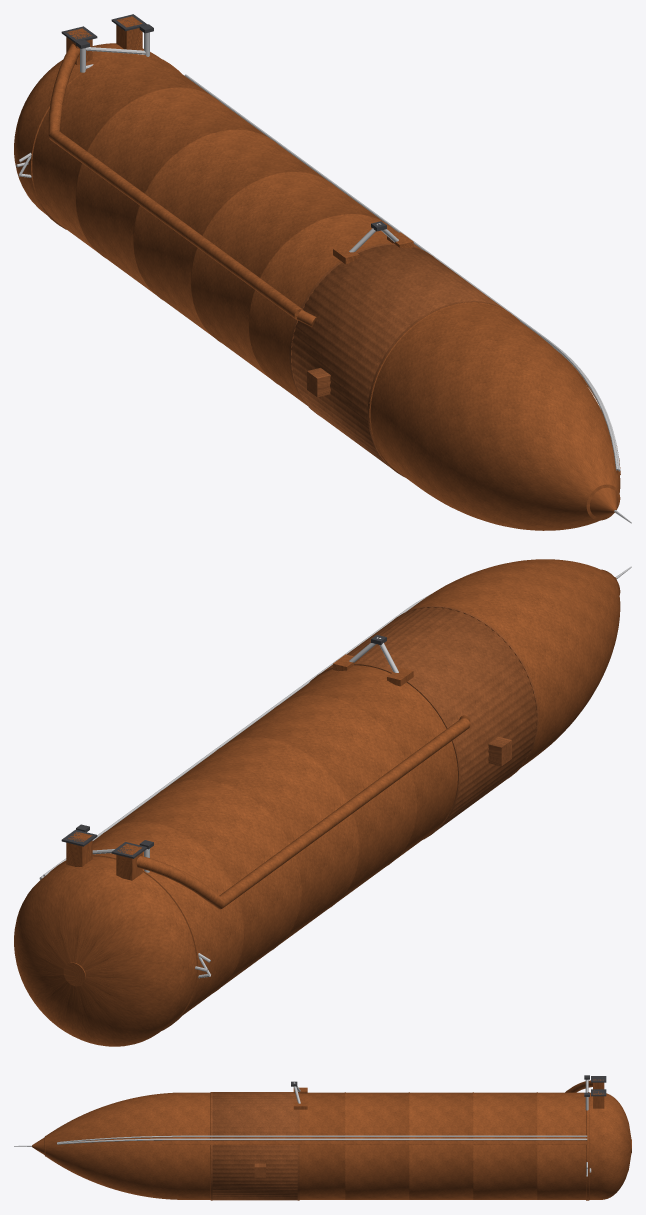
Rendered from ExternalTank.glb.
3 renders of one model, top to bottom at view 1: azimuth 30°, elevation 25°; view 2: azimuth 150°, elevation 25°; view 3: azimuth 270°, elevation 25°, orthographic. The views are drawn at different scales.
Parts seen in each view (by area): view 1: ET_ExternalTank; view 2: ET_ExternalTank; view 3: ET_ExternalTank.
Part boxes in pixels (<box>): ET_ExternalTank: <box>14,14,631,530</box>; ET_ExternalTank: <box>14,559,631,1046</box>; ET_ExternalTank: <box>14,1075,631,1200</box>.
Bounding box in the file's own units: 9.75 × 9.72 × 48.3.
4 materials, 2 textured.
